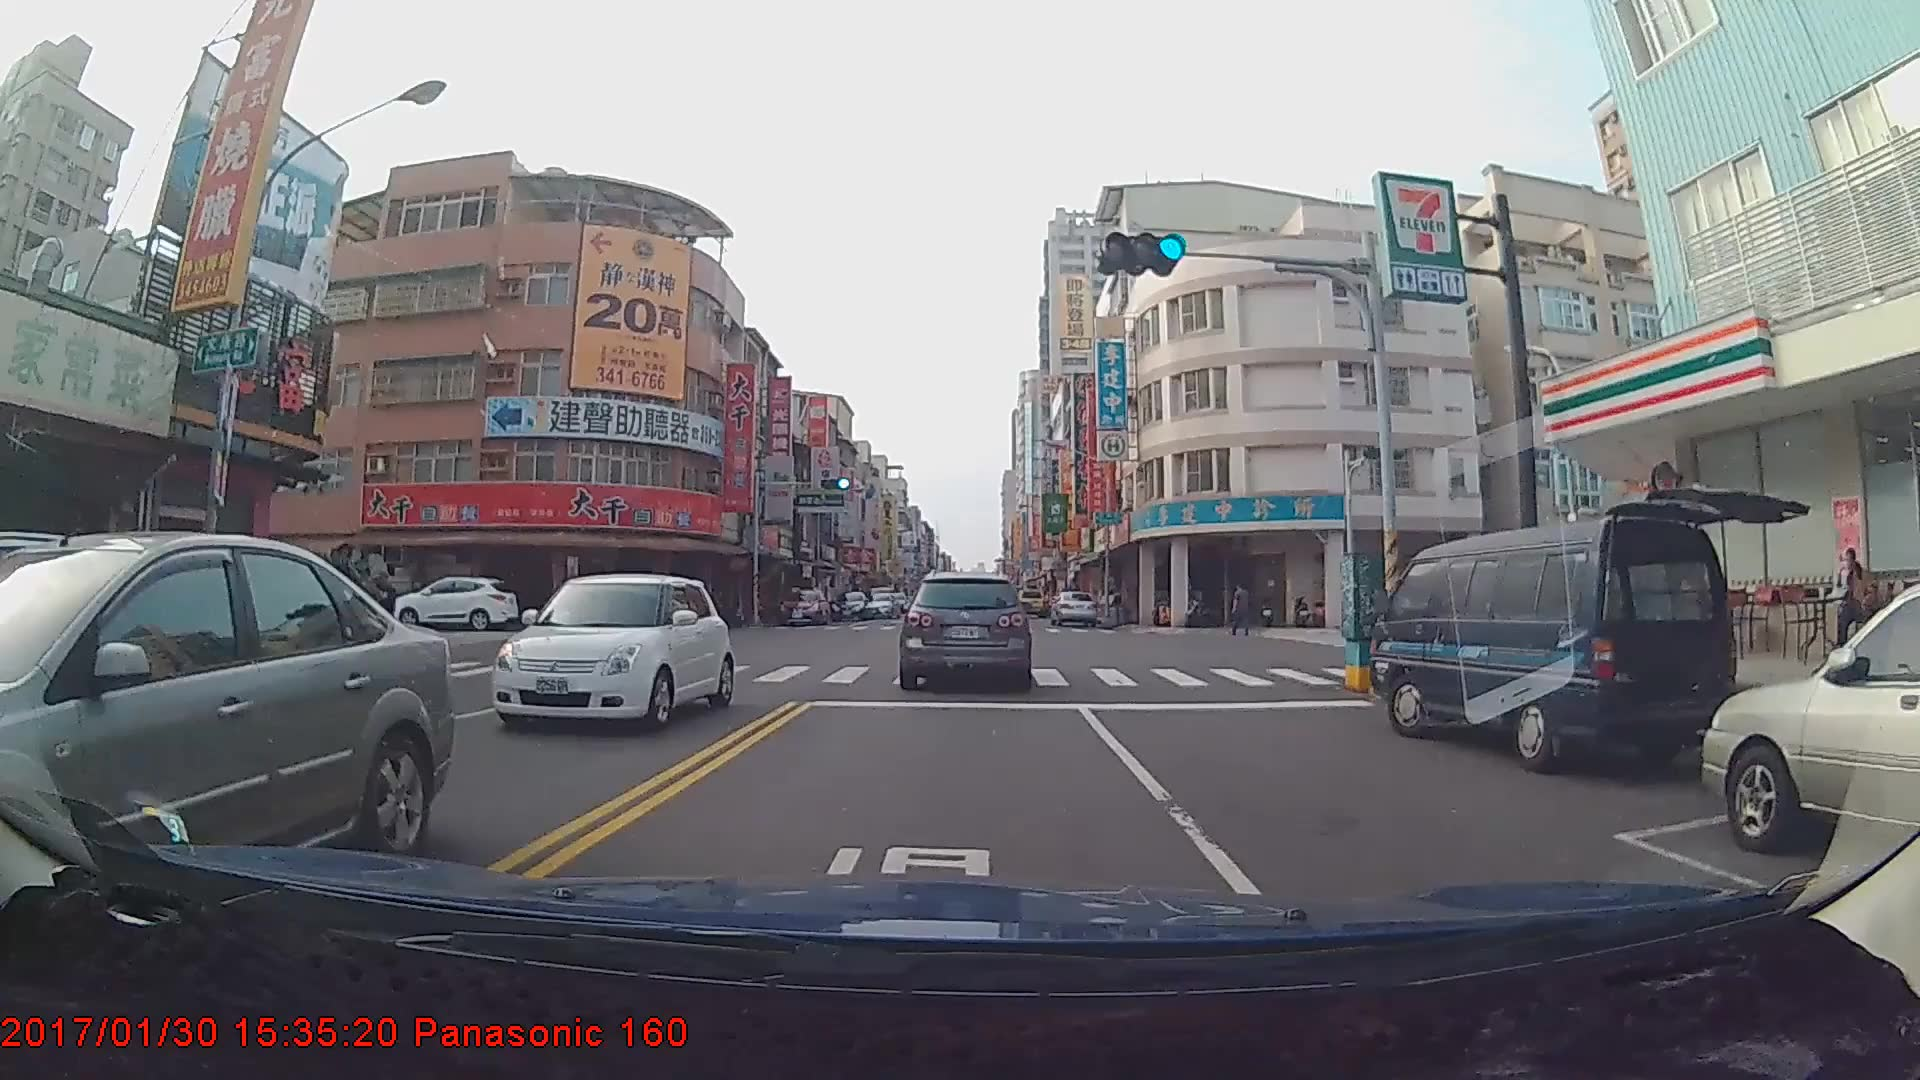pedestrian: (1232, 584, 1254, 639)
vehicle: (0, 527, 453, 917), (1364, 511, 1746, 776), (1709, 579, 1920, 908), (493, 566, 735, 733), (901, 569, 1030, 686), (393, 576, 519, 631), (1048, 588, 1098, 629), (777, 587, 826, 626), (832, 590, 871, 619), (1012, 583, 1046, 615), (864, 591, 901, 619)
